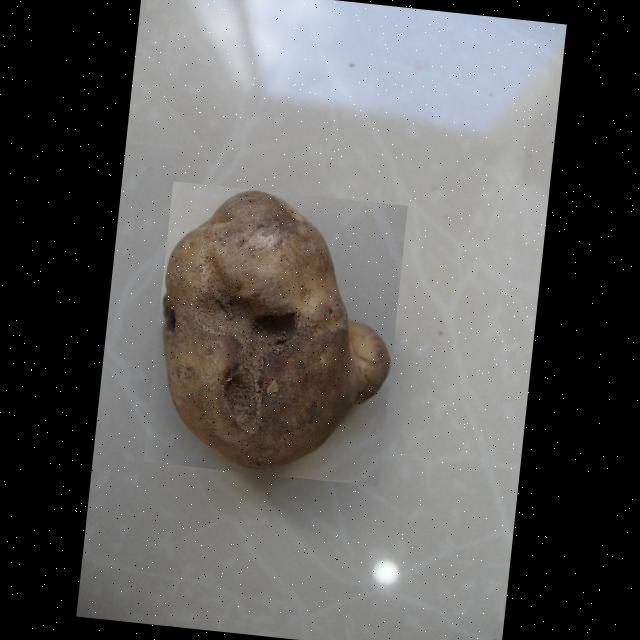Diseased-fungal potato: (142, 181, 406, 486)
